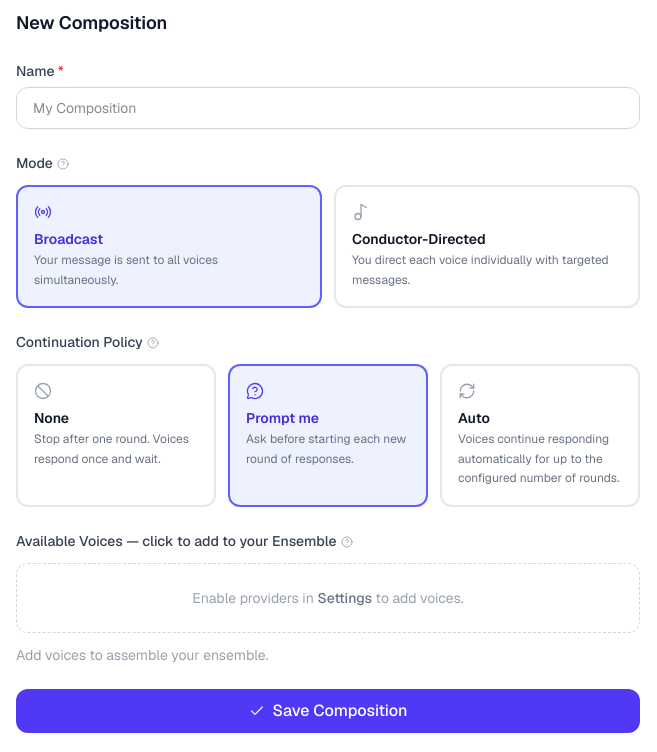
CompositionBuilder › shows validation error when Save clicked with empty name
What coordinates should you click on to do the following:
click the button "Save Composition"
I would click on:
 (328, 710)
Its box is 16,688 -> 640,732.
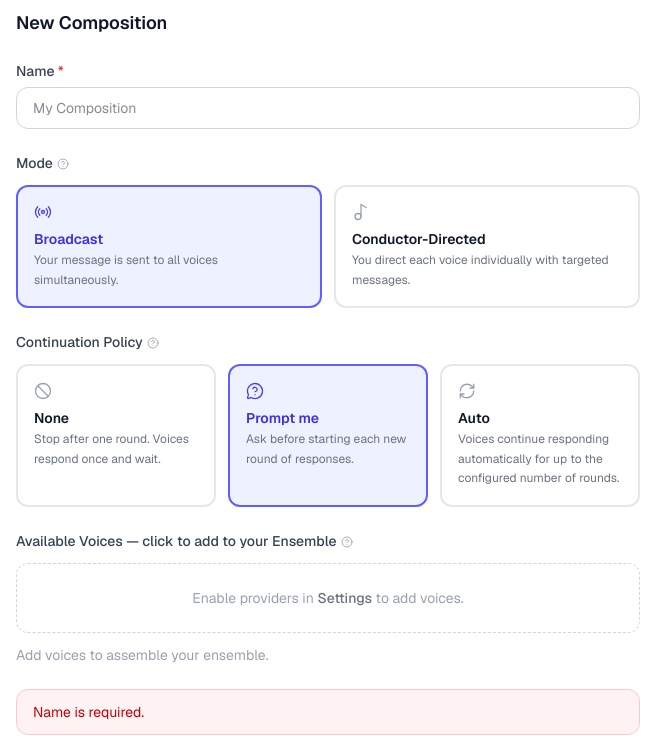
expect the text "Name is required." is shown: met, box 16,688 -> 640,734
